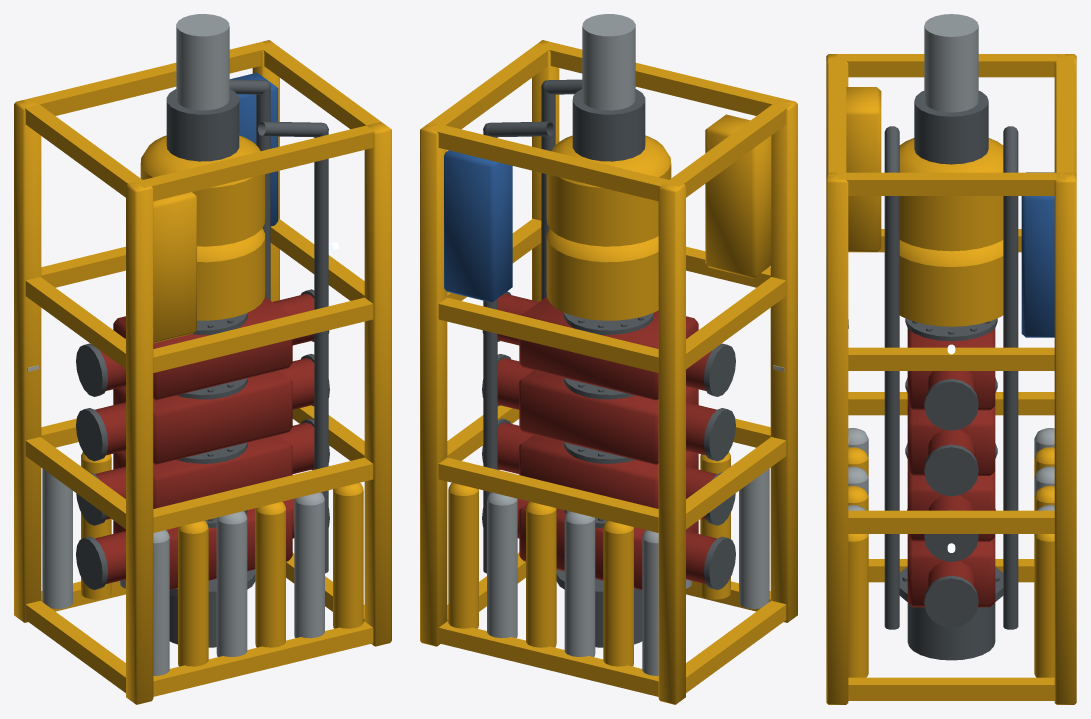
The model's file is bop.glb.
3 renders of one model, left to right at view 1: azimuth 30°, elevation 25°; view 2: azimuth 150°, elevation 25°; view 3: azimuth 270°, elevation 25°, orthographic.
Visible parts, largest first — view 1: bop_amarelo_sub, bop_tubo_vermelho, bop_aco, bop_aco_escuro, bop_azul_eq; view 2: bop_amarelo_sub, bop_tubo_vermelho, bop_aco, bop_aco_escuro, bop_azul_eq; view 3: bop_amarelo_sub, bop_aco_escuro, bop_tubo_vermelho, bop_aco, bop_azul_eq.
Boxes of the visible parts, bbox=[...] form: bop_amarelo_sub: bbox=[14, 40, 391, 704]; bop_tubo_vermelho: bbox=[95, 293, 314, 589]; bop_aco: bbox=[42, 14, 324, 675]; bop_aco_escuro: bbox=[76, 79, 329, 647]; bop_azul_eq: bbox=[230, 72, 278, 226]; bop_amarelo_sub: bbox=[420, 40, 797, 704]; bop_tubo_vermelho: bbox=[497, 293, 716, 589]; bop_aco: bbox=[487, 14, 769, 675]; bop_aco_escuro: bbox=[482, 79, 735, 647]; bop_azul_eq: bbox=[444, 150, 512, 302]; bop_amarelo_sub: bbox=[826, 54, 1076, 704]; bop_aco_escuro: bbox=[884, 91, 1018, 660]; bop_tubo_vermelho: bbox=[907, 328, 995, 607]; bop_aco: bbox=[848, 14, 1054, 534]; bop_azul_eq: bbox=[1021, 172, 1056, 337].
Bounding box in the file's own units: 7.05 × 15.5 × 5.7.
